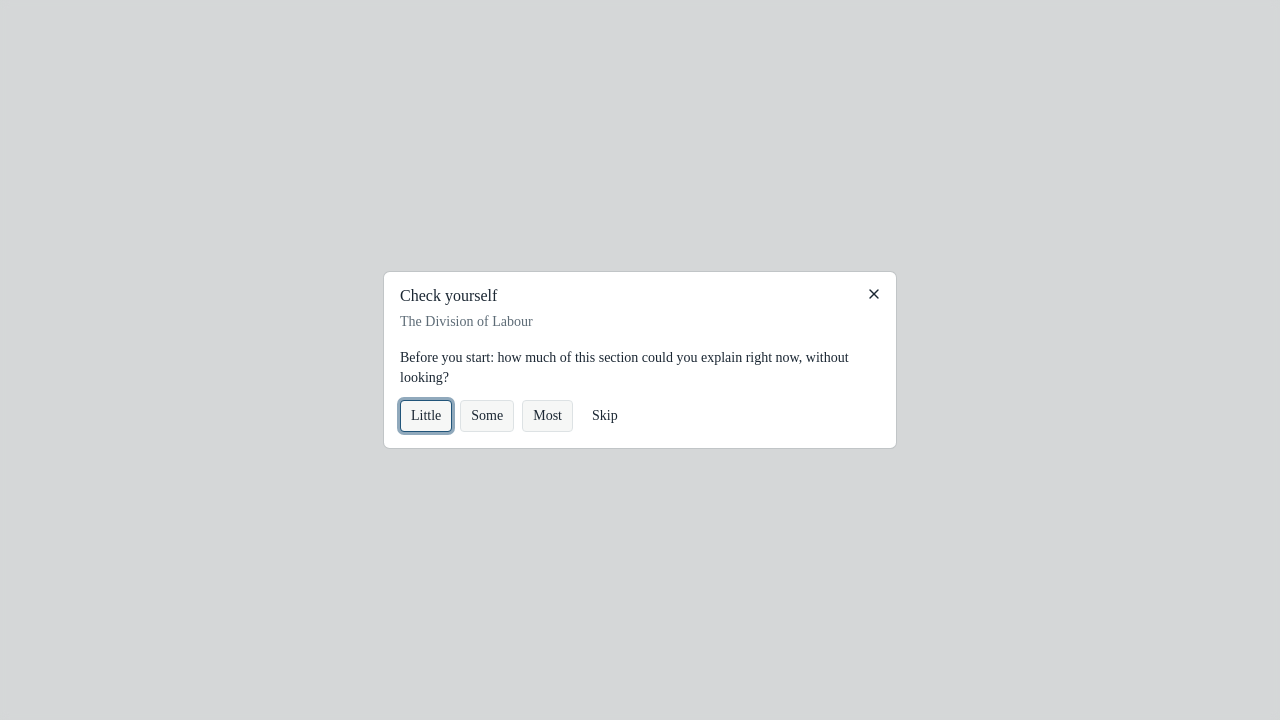
Test: CheckpointDialog › recall answer appears only after a confidence submit resolves
The width and height of the screenshot is (1280, 720).
Click the button "Some": click(487, 416) [460,400,514,432]
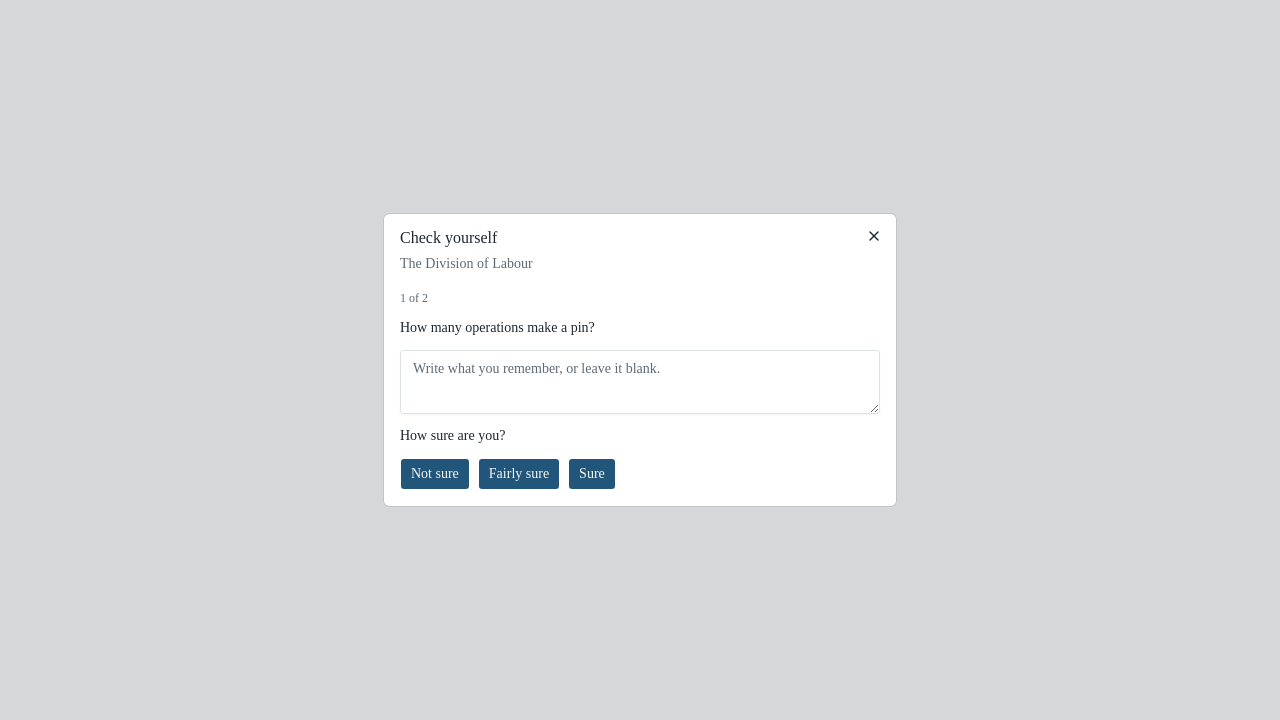
Check: the text "Eighteen distinct operations" is not shown
Check: the text "How many operations make a pin?" is shown, box [400,320,595,335]
In the text box named "Your answer": (640, 382) [400,350,880,414], type "eighteen?"
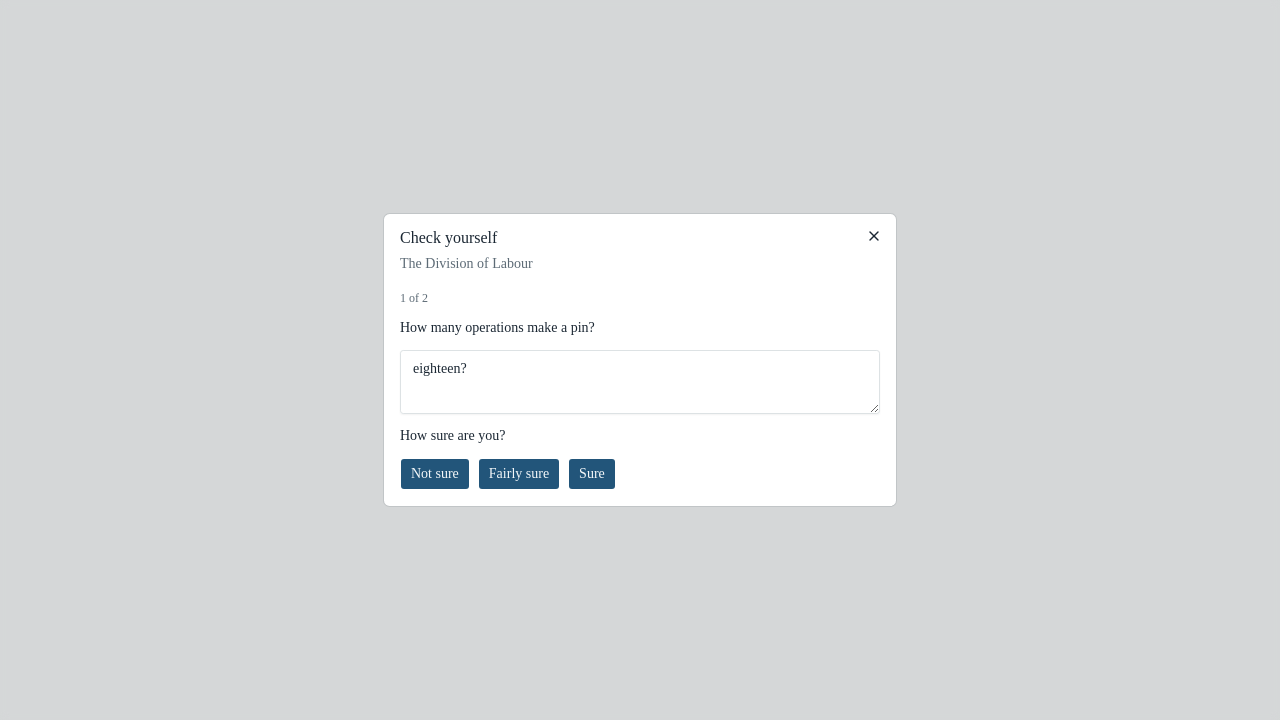
Click the button "Fairly sure": click(519, 474) [478,458,560,490]
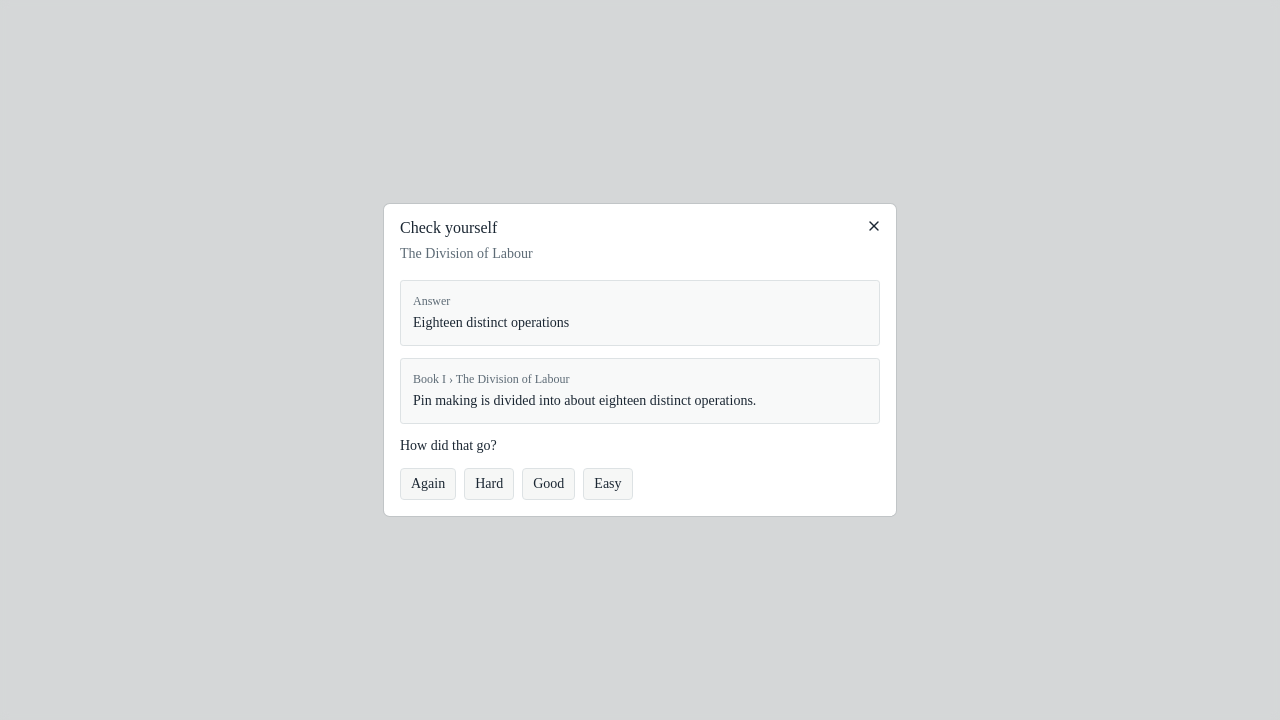
Check: the text "Eighteen distinct operations" is shown, box [413,315,569,330]
Check: the button "Again" is shown, box [400,468,456,500]
Check: the button "Hard" is shown, box [464,468,514,500]
